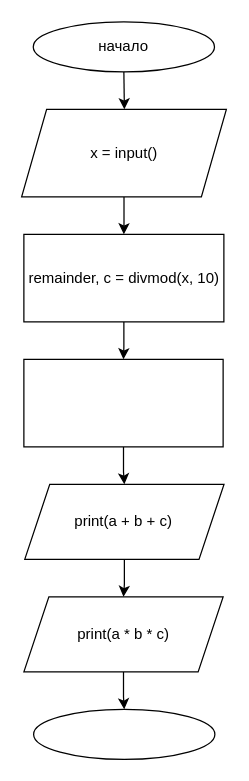
Image size: 249x781. Some labels were removed from this diagram. The shapes that lost their labels are listed below. From the top down, each one's box as (x1, y1, x2, y2) in pixels, then its label:
(23, 358, 223, 447): a,b = divmod(remainder,10)
(32, 708, 215, 759): конец
